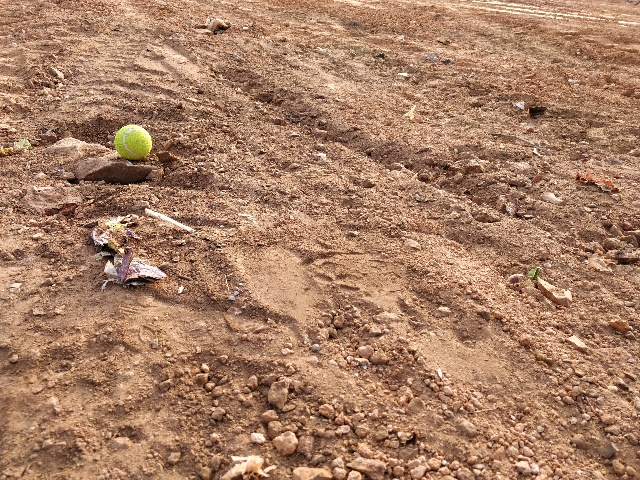ball: (108, 121, 157, 162)
